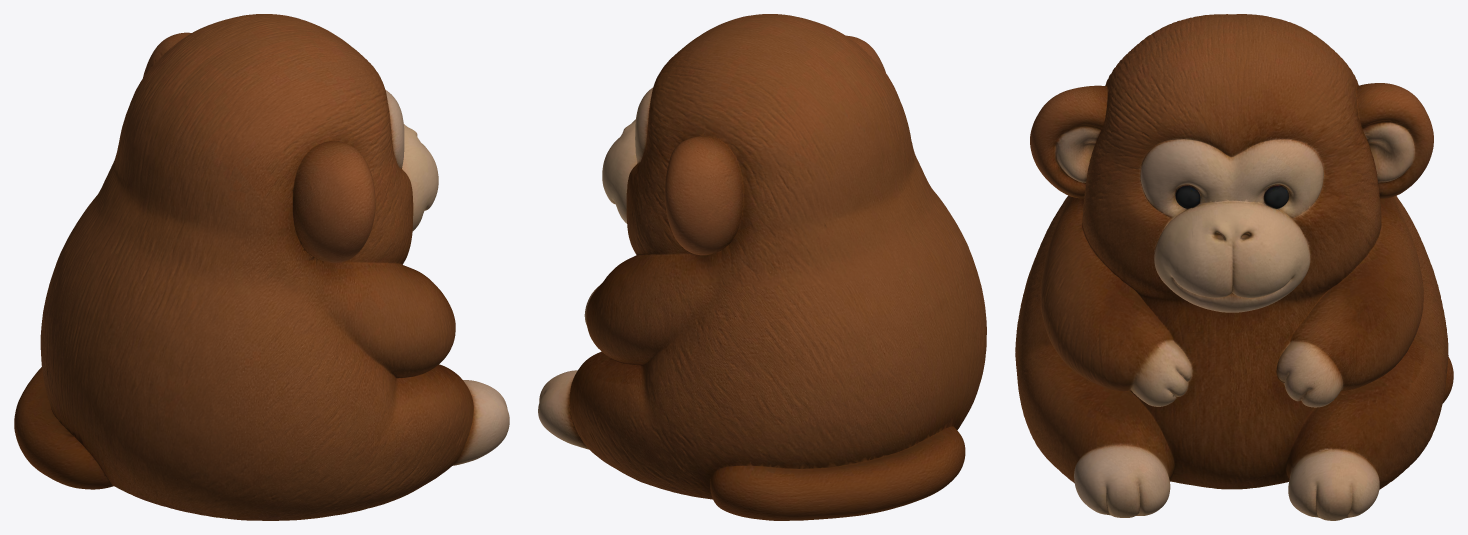
File: monkey.glb
The picture shows the model from 3 angles, left to right: view 1: azimuth 30°, elevation 25°; view 2: azimuth 150°, elevation 25°; view 3: azimuth 270°, elevation 25°; orthographic projection. The views are drawn at different scales.
Parts seen in each view (by area): view 1: tripo_node_15141db4-61a3-4a8f-85ae-9c2a75ab9c7e; view 2: tripo_node_15141db4-61a3-4a8f-85ae-9c2a75ab9c7e; view 3: tripo_node_15141db4-61a3-4a8f-85ae-9c2a75ab9c7e.
Boxes of the visible parts, x1,y1,x2,y2 form: tripo_node_15141db4-61a3-4a8f-85ae-9c2a75ab9c7e: (14, 14, 509, 520); tripo_node_15141db4-61a3-4a8f-85ae-9c2a75ab9c7e: (538, 14, 986, 520); tripo_node_15141db4-61a3-4a8f-85ae-9c2a75ab9c7e: (1015, 14, 1453, 520).
Size of the model in its own units: 0.9982 by 1 by 0.9591.
1 material, 1 textured.
